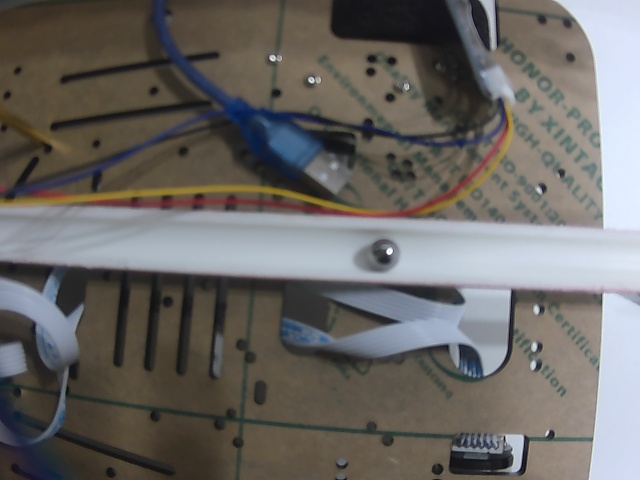steelball: (368, 238, 400, 271)
